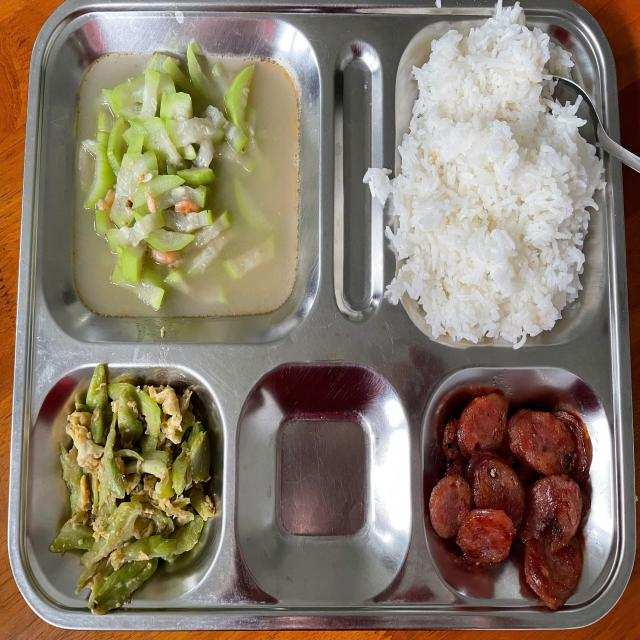lapxuong: (428, 394, 600, 606)
muoptom: (70, 48, 296, 323)
salad: (406, 38, 594, 335)
vung: (50, 369, 217, 597)
